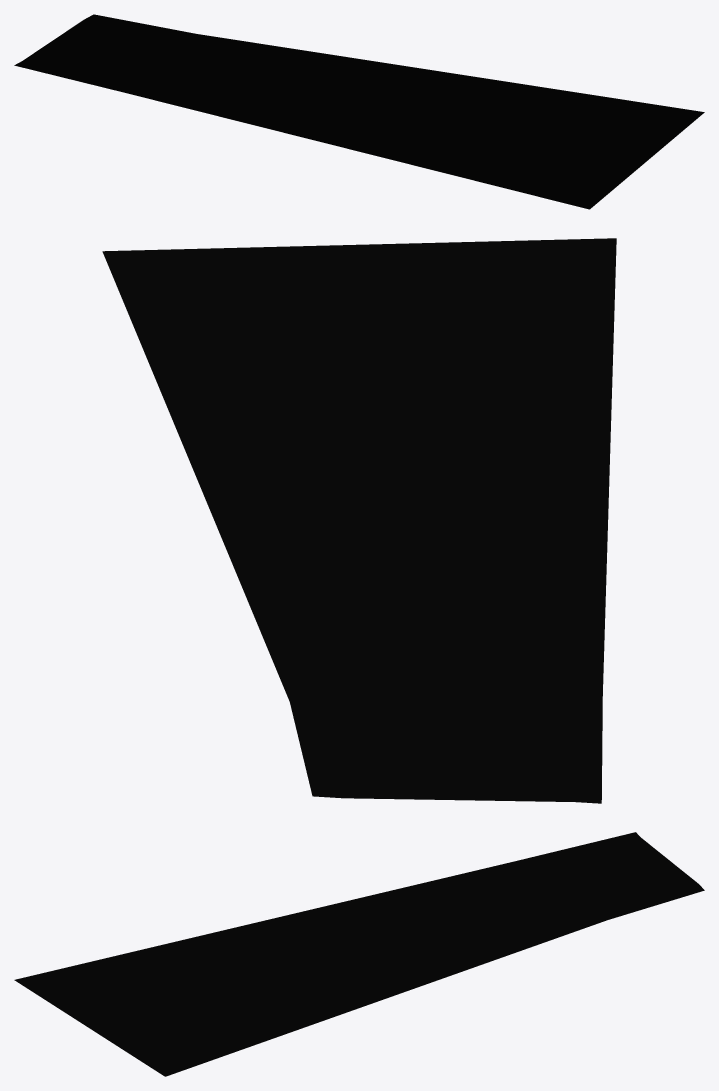
3 renders of one model, top to bottom at view 1: azimuth 30°, elevation 25°; view 2: azimuth 150°, elevation 25°; view 3: azimuth 270°, elevation 25°, orthographic. The views are drawn at different scales.
Parts seen in each view (by area): view 1: Joint_0_Object_0; view 2: Joint_0_Object_0; view 3: Joint_0_Object_0.
Part boxes in pixels (bbox=[...]): Joint_0_Object_0: bbox=[14, 14, 704, 209]; Joint_0_Object_0: bbox=[102, 238, 616, 803]; Joint_0_Object_0: bbox=[14, 832, 704, 1076].
Size of the model in its own units: 281 by 0.0083 by 335.
1 material, 1 textured.
